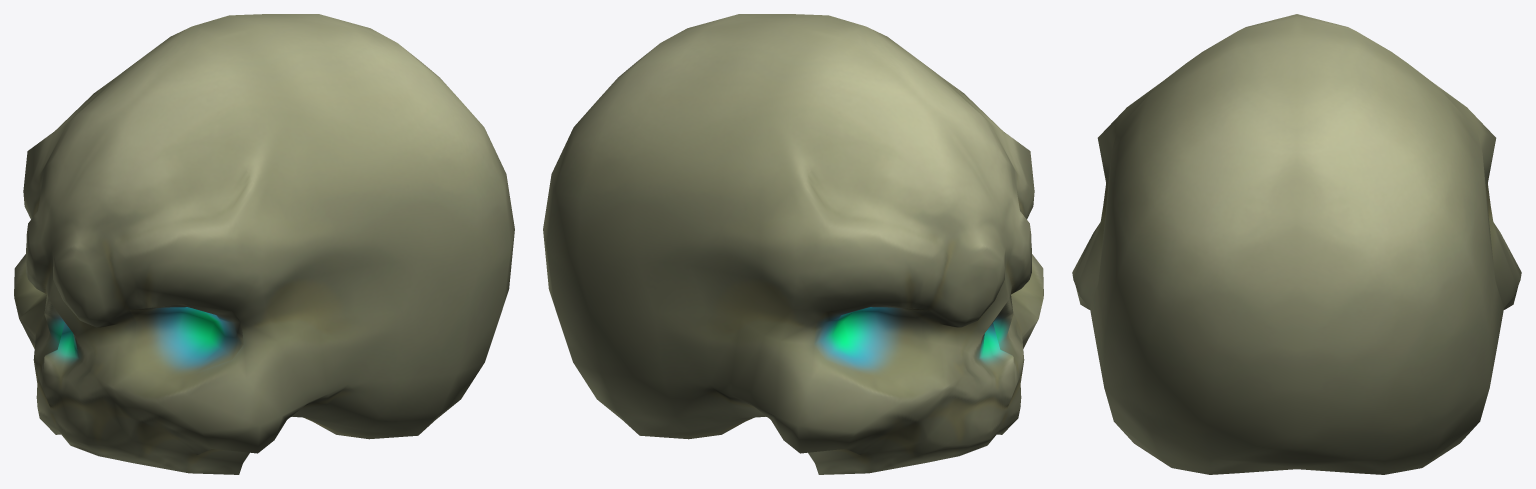
Rendered from SM_Skull.fbx.
3 renders of one model, left to right at view 1: azimuth 30°, elevation 25°; view 2: azimuth 150°, elevation 25°; view 3: azimuth 270°, elevation 25°, orthographic.
Parts seen in each view (by area): view 1: SM_Skull_LOD0; view 2: SM_Skull_LOD0; view 3: SM_Skull_LOD0.
Part boxes in pixels (x1,y1,x2,y2): SM_Skull_LOD0: [14, 14, 514, 474]; SM_Skull_LOD0: [543, 14, 1043, 474]; SM_Skull_LOD0: [1072, 14, 1521, 474].
Bounding box in the file's own units: 35.74 × 31.29 × 30.1.
Materials: 1 (1 with a texture image).
